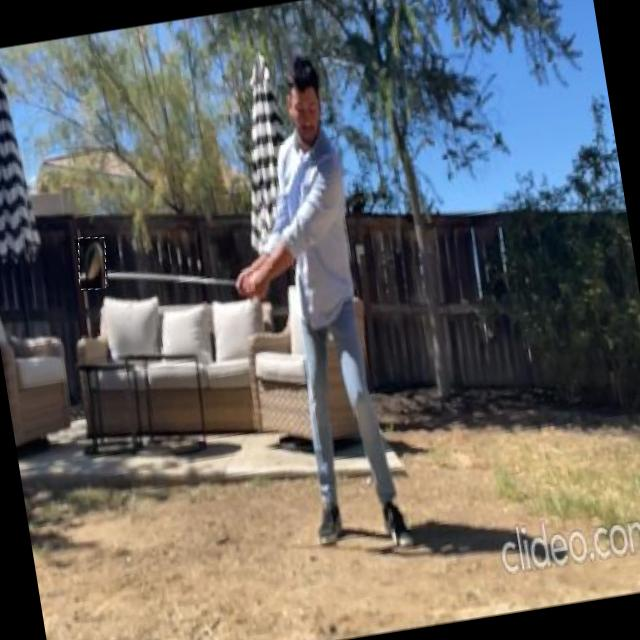club head: (74, 235, 110, 292)
